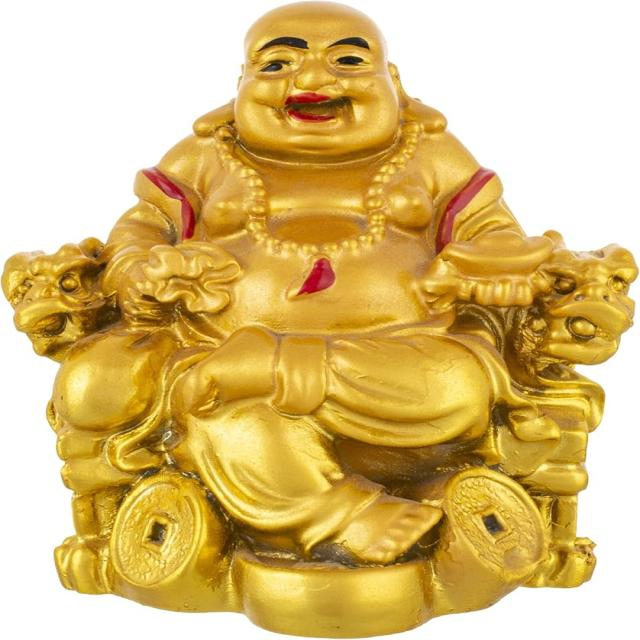Smiling Buddha: (99, 0, 512, 444)
